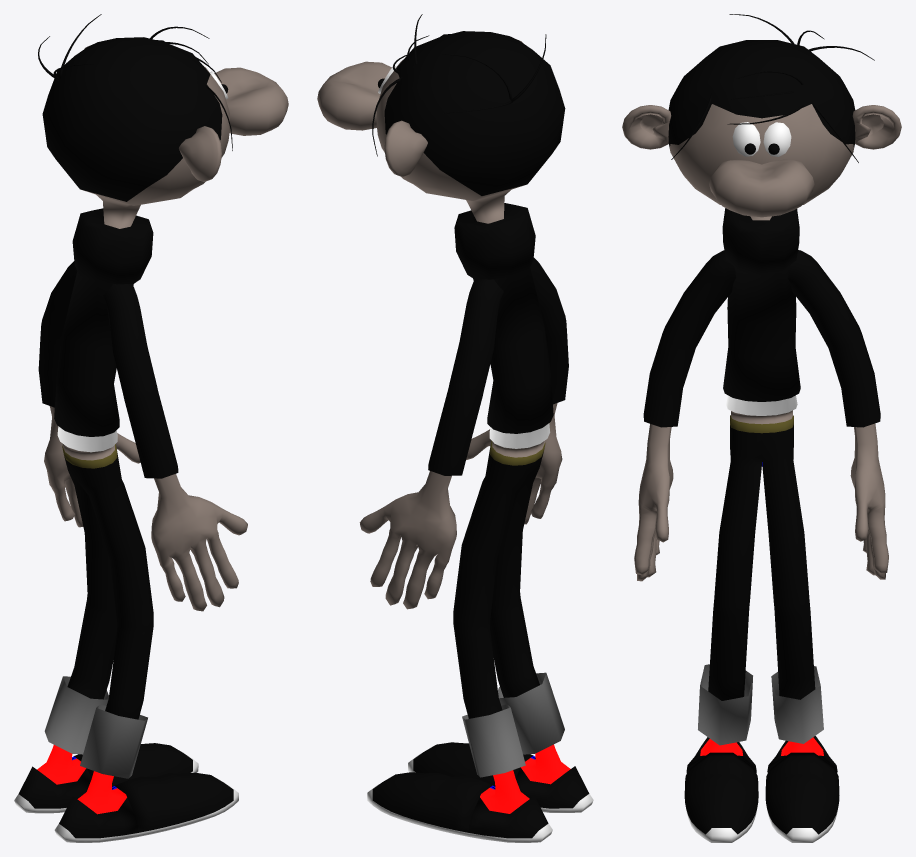
File: spectator_black_medium.dae
3 renders of one model, left to right at view 1: azimuth 30°, elevation 25°; view 2: azimuth 150°, elevation 25°; view 3: azimuth 270°, elevation 25°, orthographic.
Visible parts, largest first — view 1: Spectator; view 2: Spectator; view 3: Spectator.
Boxes of the visible parts, <box> form: Spectator: <box>14,14,288,842</box>; Spectator: <box>317,14,593,842</box>; Spectator: <box>622,14,901,842</box>.
Size of the model in its own units: 0.5277 by 0.5296 by 1.6.
